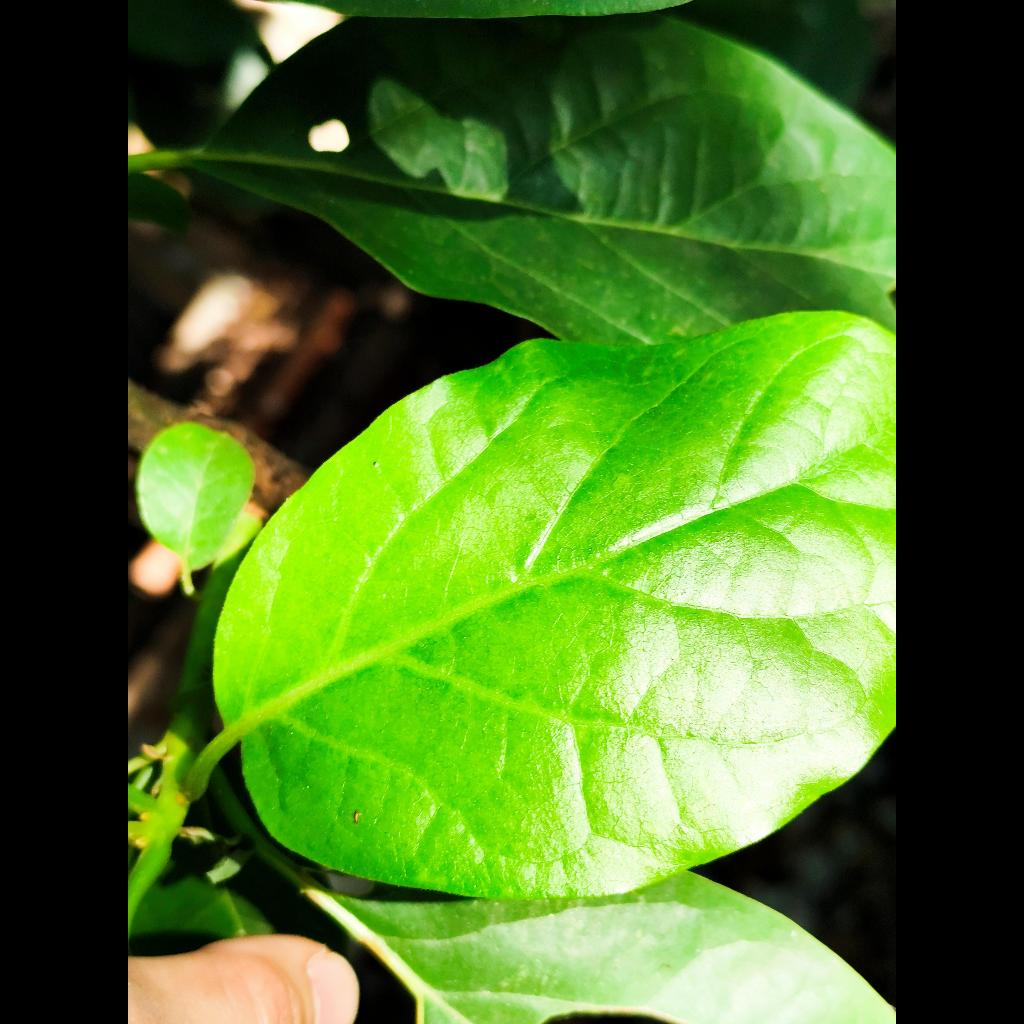hoja_sana: (201, 313, 896, 899)
